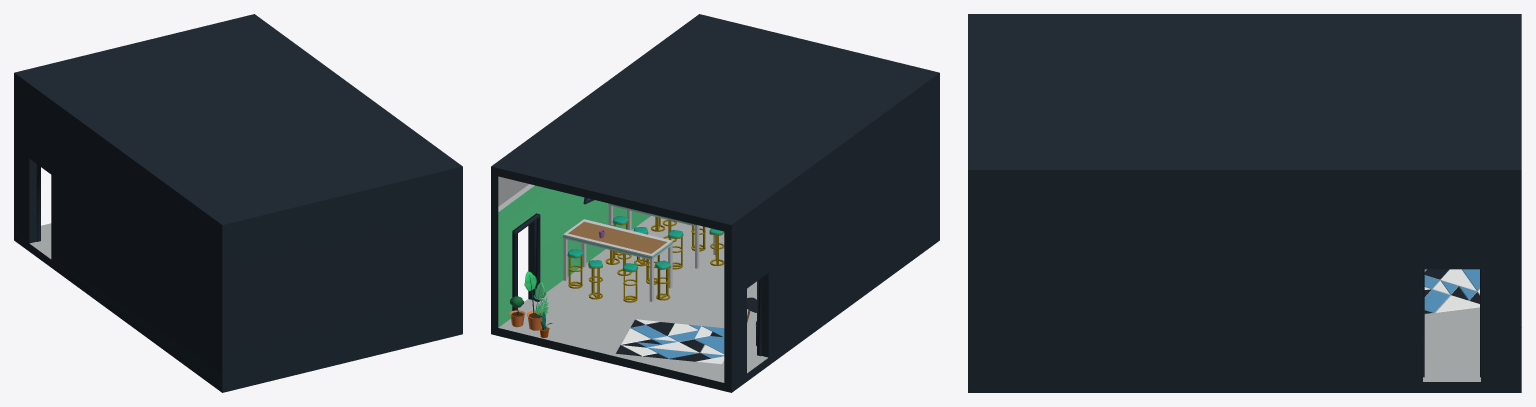
Rendered from Room_rest_002.fbx.
3 views of the same model, side by side, from view 1: azimuth 30°, elevation 25°; view 2: azimuth 150°, elevation 25°; view 3: azimuth 270°, elevation 25° (orthographic). The views are drawn at different scales.
Visible parts, largest first — view 1: Room_Tiny_001.001; view 2: Room_Tiny_001.001; view 3: Room_Tiny_001.001.
Boxes of the visible parts, x1,y1,x2,y2 form: Room_Tiny_001.001: [14, 14, 462, 392]; Room_Tiny_001.001: [491, 14, 939, 392]; Room_Tiny_001.001: [968, 14, 1521, 392].
Bounding box in the file's own units: 600 × 400 × 900.
